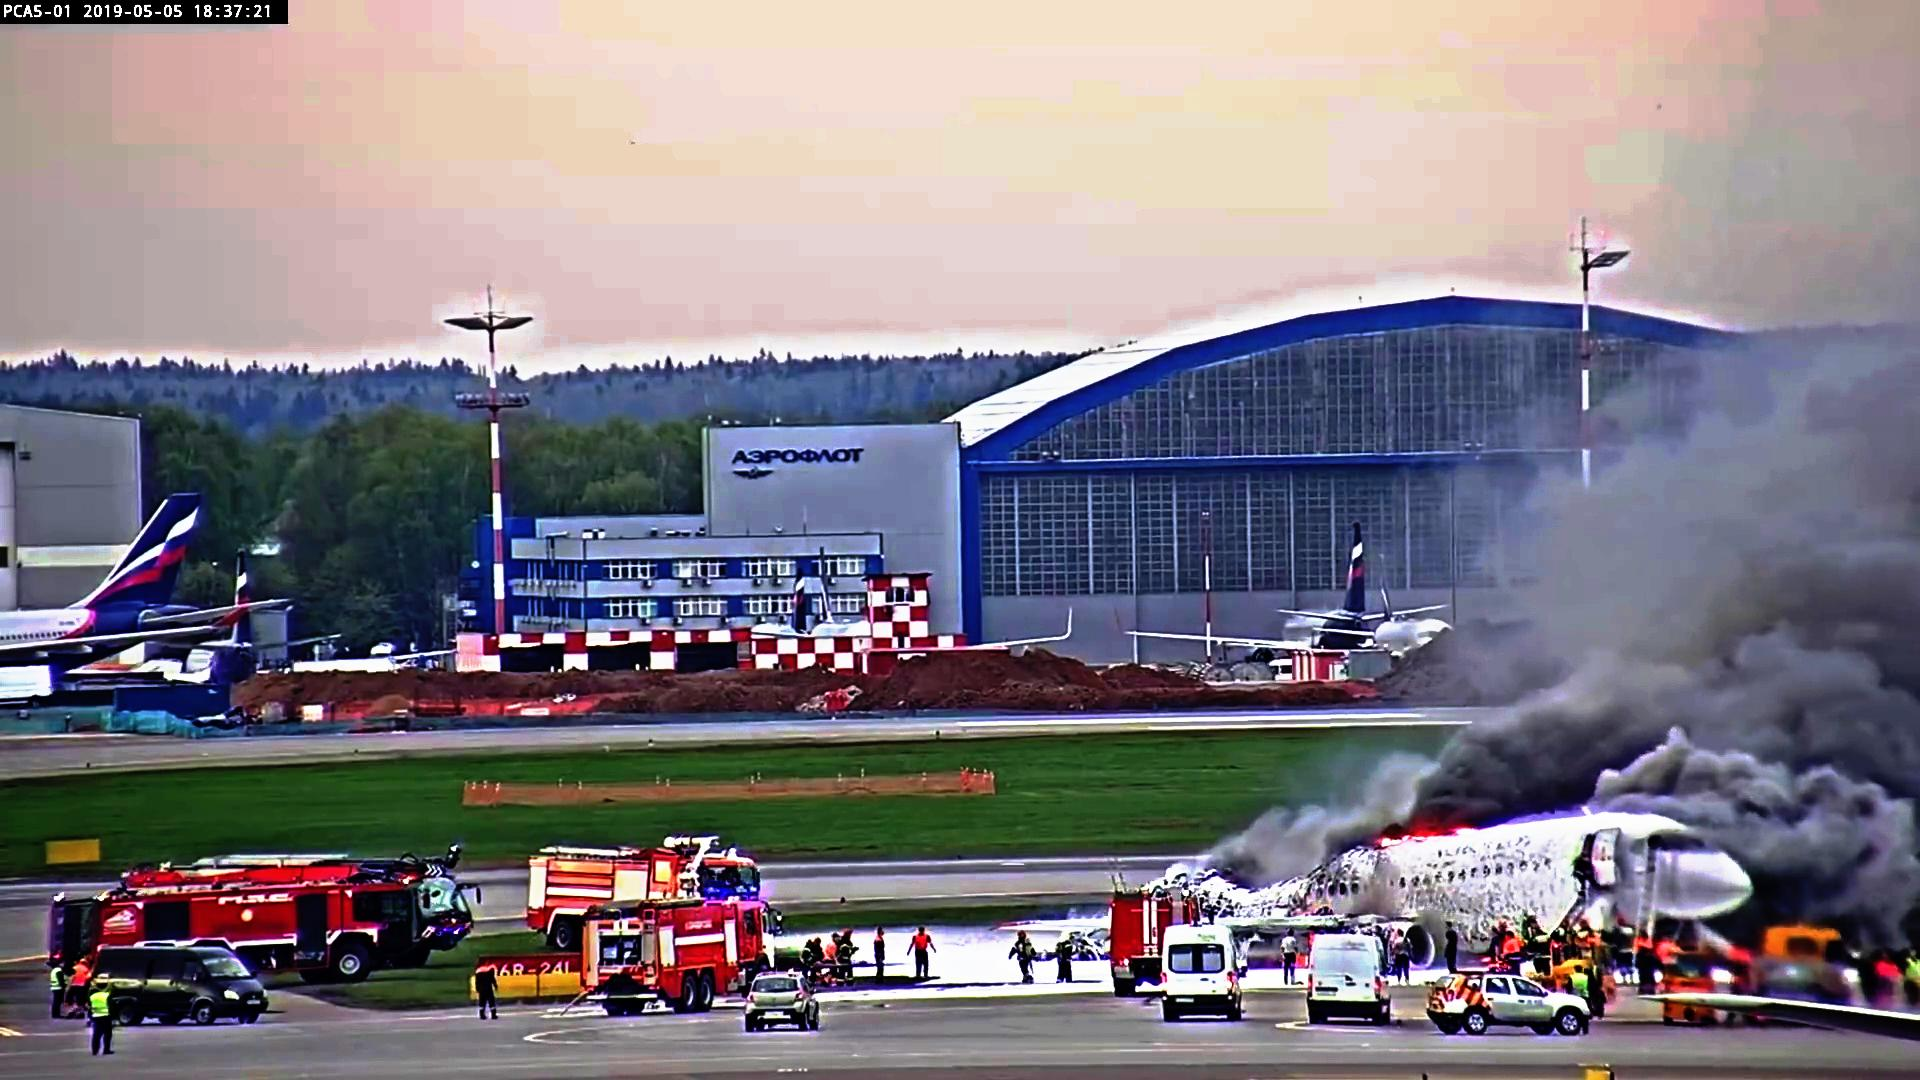smoke: (1640, 625, 1920, 777), (1431, 665, 1652, 825)
